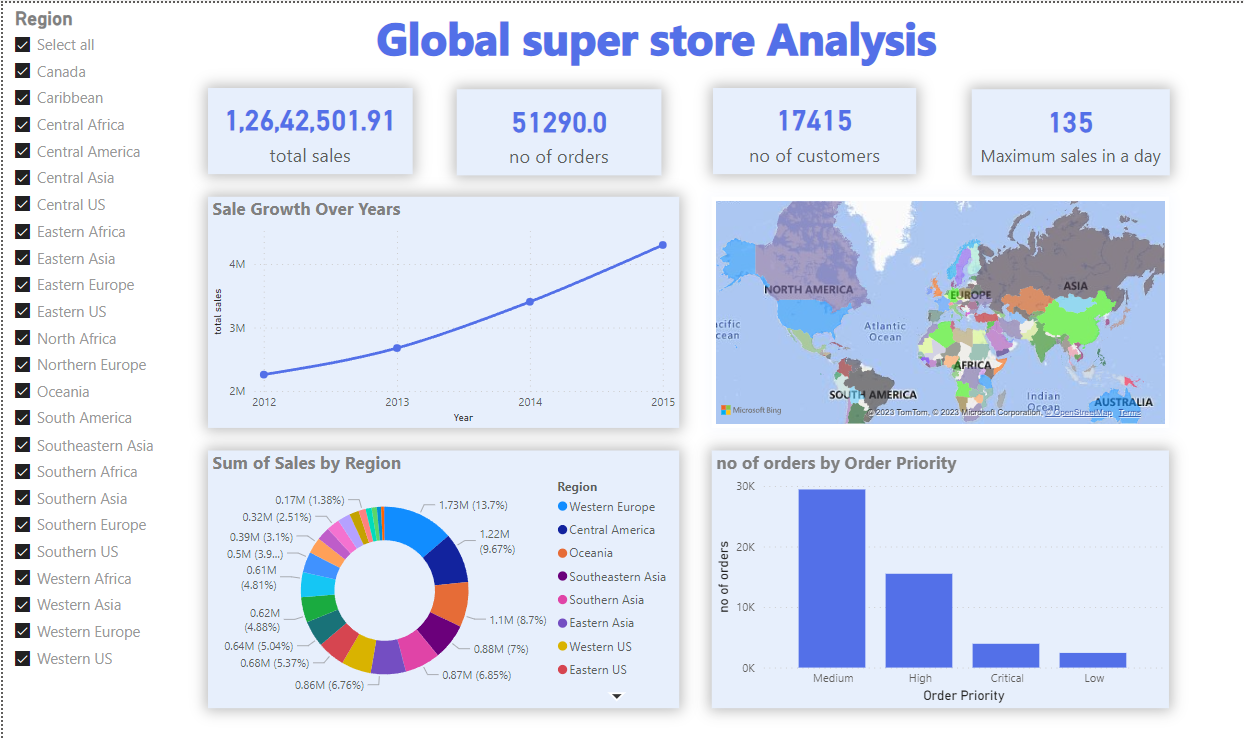

The page's visual inventory and layout, read from the dashboard file:
{"tool":"powerbi","page":{"name":"BASIC","canvas":[1350,800],"ordinal":0},"visuals":[{"type":"textbox","box":[389,0,643,93.3],"z":0},{"type":"card","fields":{"Values":["Orders.total sales"]},"box":[222.5,91.9,222.5,93.3],"z":1000,"group":"g1"},{"type":"slicer","fields":{"Values":["Orders.Region"]},"box":[0,0,195.6,800],"z":1000},{"type":"card","fields":{"Values":["Orders.no of orders"]},"box":[492.3,93.3,222.5,93.3],"z":2000,"group":"g1"},{"type":"lineChart","title":"Sale Growth Over Years","fields":{"Y":["Orders.total sales"],"Category":["Orders.Order Date.Variation.Date Hierarchy.Year"]},"box":[222.8,210.5,491.7,251.3],"z":2000},{"type":"card","fields":{"Values":["Orders.no of customers"]},"box":[770.8,91.9,221,93.3],"z":3000,"group":"g1"},{"type":"group","id":"g1","title":"Group 1","box":[222.5,91.9,1044.9,94.7],"z":3000},{"type":"card","fields":{"Values":["Orders.Maximum sales in a day"]},"box":[1052.1,93.3,215.3,93.3],"z":4000,"group":"g1"},{"type":"filledMap","fields":{"Category":["Orders.Country"],"Series":["Orders.Sales"]},"box":[770.1,210.5,498.5,251.3],"z":4000},{"type":"donutChart","fields":{"Category":["Orders.Region"],"Y":["Sum(Orders.Sales)"]},"box":[222.8,486.2,487.6,279.8],"z":5000},{"type":"columnChart","fields":{"Category":["Orders.Order Priority"],"Y":["Orders.no of orders"]},"box":[770.1,486.2,498.5,279.8],"z":6000}]}

Visuals, with their boxes in screenshot pixels (x1, y1, x2, y2), scaled from the page's 1350x800 canvas onto the 1244x738 screenshot:
textbox: <bbox>358, 0, 951, 86</bbox>
card - Orders.total sales: <bbox>205, 85, 410, 171</bbox>
slicer - Orders.Region: <bbox>0, 0, 180, 737</bbox>
card - Orders.no of orders: <bbox>454, 86, 659, 172</bbox>
"Sale Growth Over Years" lineChart: <bbox>205, 194, 658, 426</bbox>
card - Orders.no of customers: <bbox>710, 85, 914, 171</bbox>
"Group 1" group: <bbox>205, 85, 1168, 172</bbox>
card - Orders.Maximum sales in a day: <bbox>969, 86, 1168, 172</bbox>
filledMap - Orders.Country x Orders.Sales: <bbox>710, 194, 1169, 426</bbox>
donutChart - Orders.Region x Sum(Orders.Sales): <bbox>205, 449, 655, 707</bbox>
columnChart - Orders.Order Priority x Orders.no of orders: <bbox>710, 449, 1169, 707</bbox>
